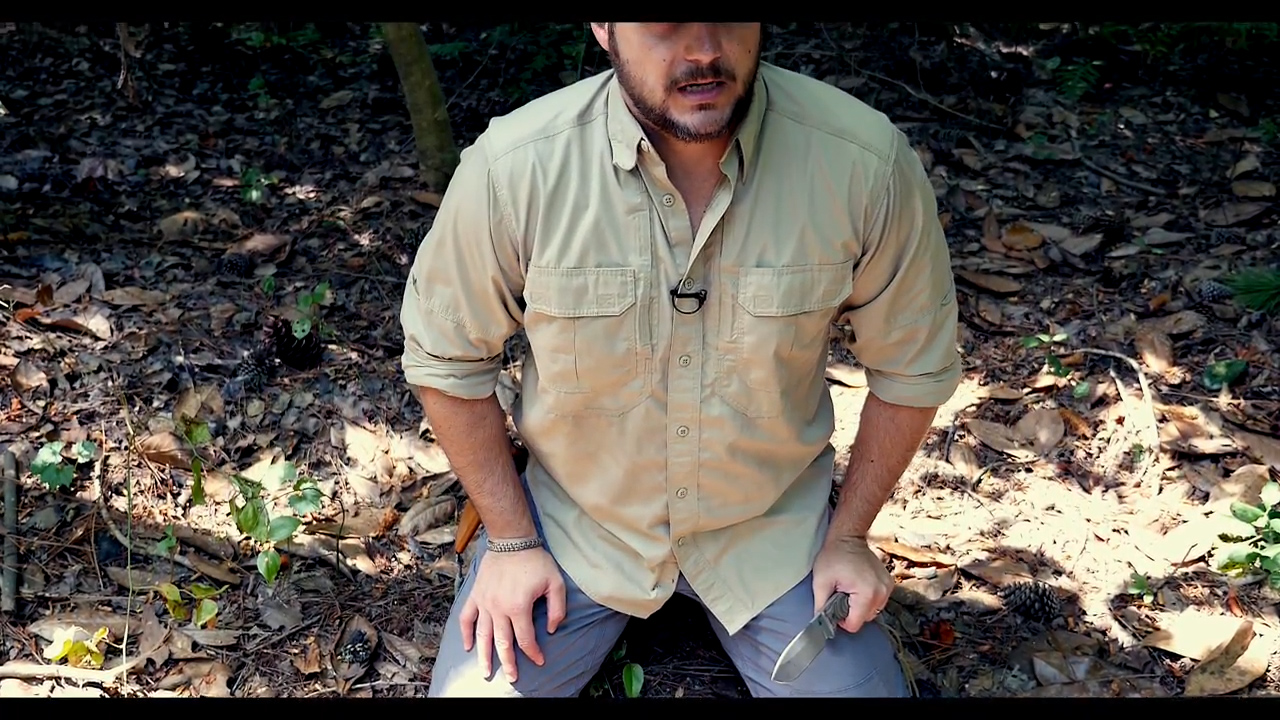knife: (763, 555, 899, 693)
